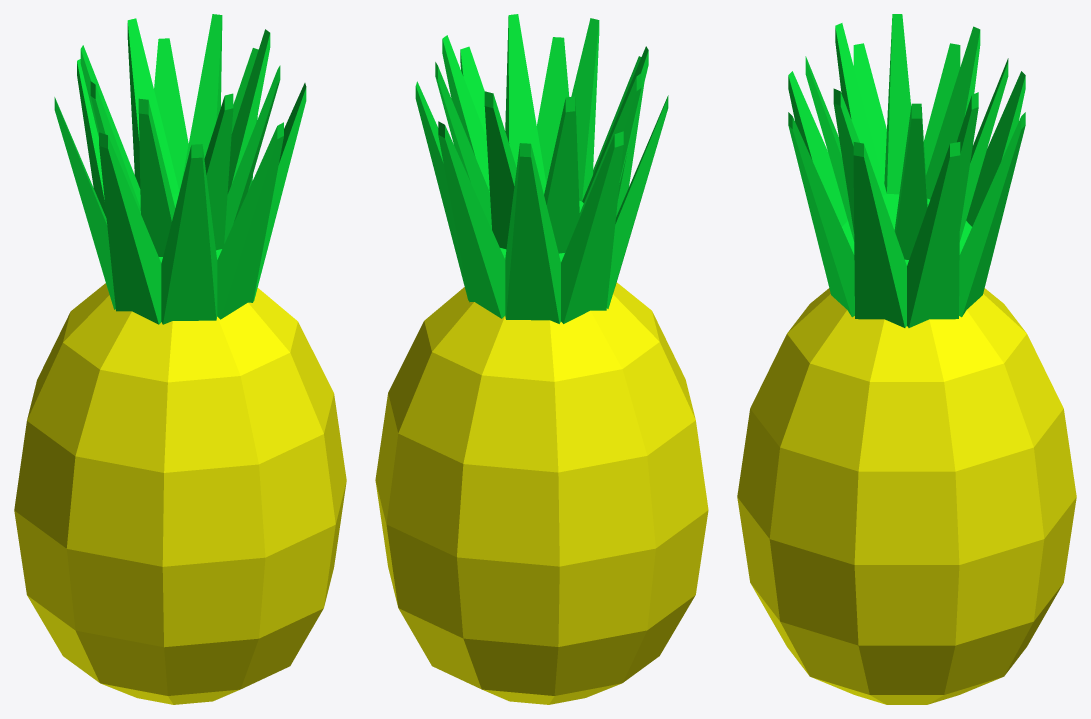
Rendered from Abacaxi.fbx.
3 renders of one model, left to right at view 1: azimuth 30°, elevation 25°; view 2: azimuth 150°, elevation 25°; view 3: azimuth 270°, elevation 25°, orthographic.
Parts seen in each view (by area): view 1: Abacaxi; view 2: Abacaxi; view 3: Abacaxi.
Part boxes in pixels (x1,y1,x2,y2): Abacaxi: [14, 14, 346, 704]; Abacaxi: [375, 14, 708, 704]; Abacaxi: [737, 14, 1076, 704].
Bounding box in the file's own units: 21.47 × 46.31 × 22.58.
1 material, 1 textured.
